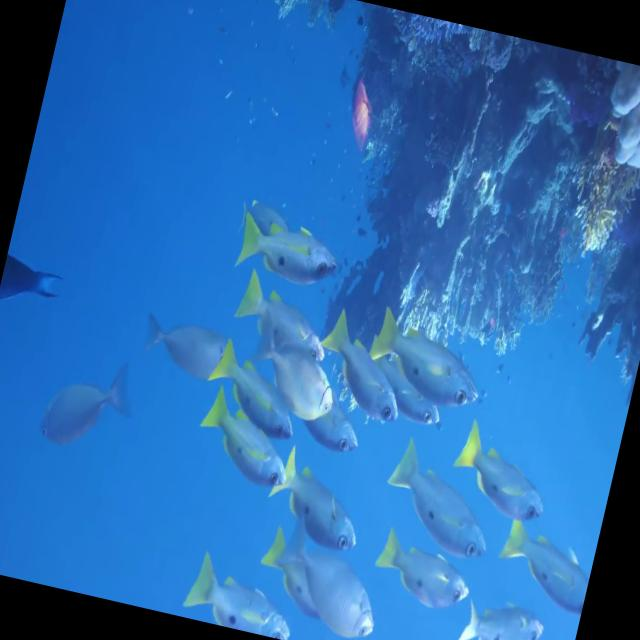fish: (334, 298, 498, 432), (364, 434, 508, 567), (434, 407, 559, 560), (220, 181, 364, 306), (237, 305, 361, 433), (24, 334, 145, 464), (244, 444, 376, 560), (301, 306, 418, 435), (476, 509, 600, 630), (359, 522, 488, 631), (280, 519, 396, 640), (194, 337, 314, 452), (168, 550, 306, 640), (186, 389, 295, 499), (129, 298, 234, 399), (212, 274, 318, 372), (359, 366, 459, 464), (283, 388, 373, 484), (447, 575, 555, 640), (0, 252, 71, 337)
